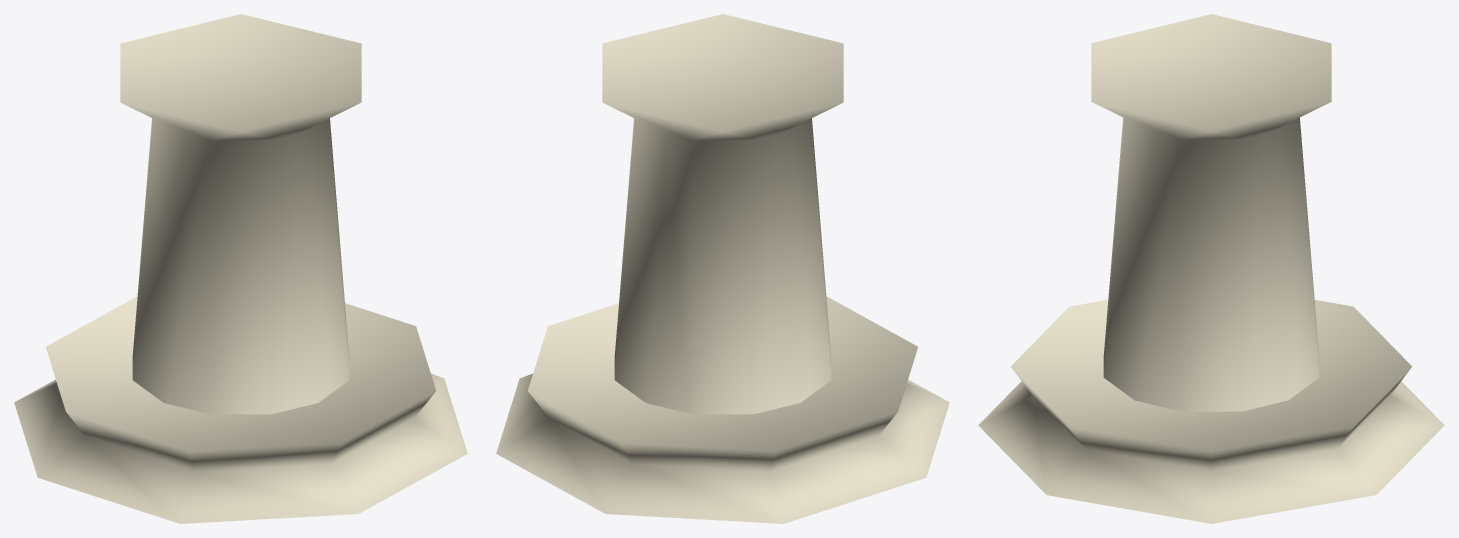
Rendered from candle-stub.glb.
3 renders of one model, left to right at view 1: azimuth 30°, elevation 25°; view 2: azimuth 150°, elevation 25°; view 3: azimuth 270°, elevation 25°, orthographic.
Visible parts, largest first — view 1: candle_stub; view 2: candle_stub; view 3: candle_stub.
Boxes of the visible parts, x1,y1,x2,y2 form: candle_stub: [14, 14, 467, 523]; candle_stub: [496, 14, 949, 523]; candle_stub: [978, 14, 1444, 523].
Size of the model in its own units: 0.0719 by 0.06 by 0.0719.
Materials: 1 (1 with a texture image).
